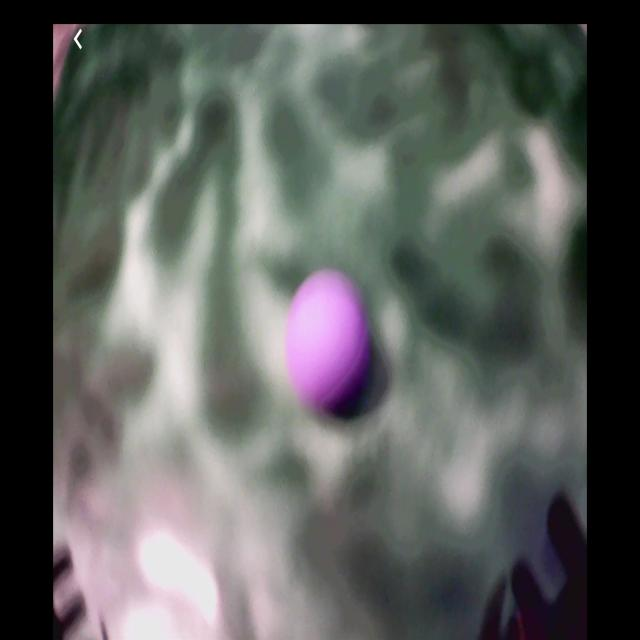ball: (283, 267, 372, 414)
